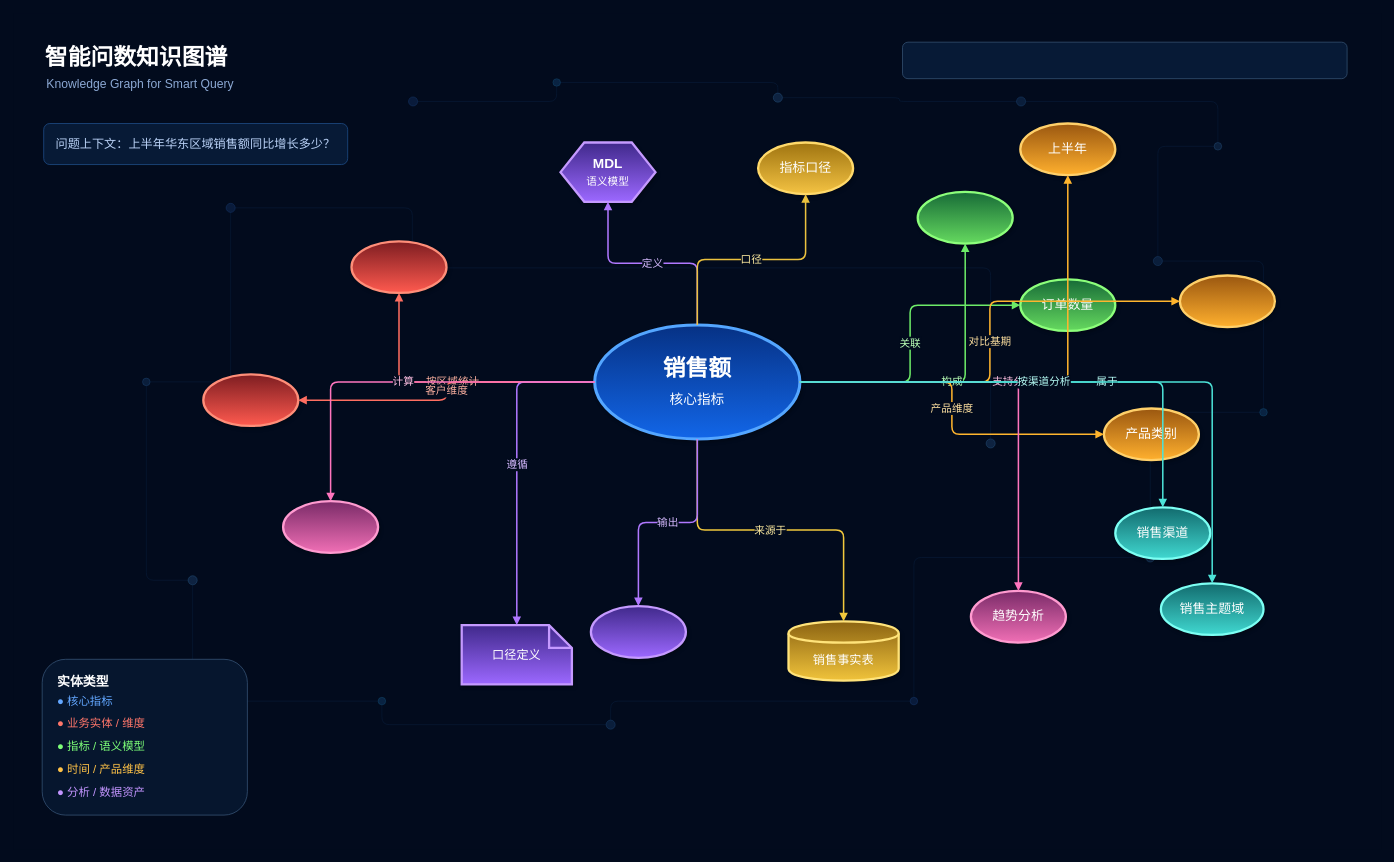
This 1394x862 diagram has some shape labels left out. The shapes that lost their labels are listed below. From the top down, each one's centre as x and y in pixels, then its label:
the point at 1124,60: 7 类实体 | 10 类关系 | 32,480 个实体 | 188,620 条关系
the point at 965,218: 订单金额
the point at 399,268: 华东区域
the point at 1227,302: 去年同期
the point at 251,401: 客户群
the point at 331,528: 同比增长
the point at 638,633: 区域排行
